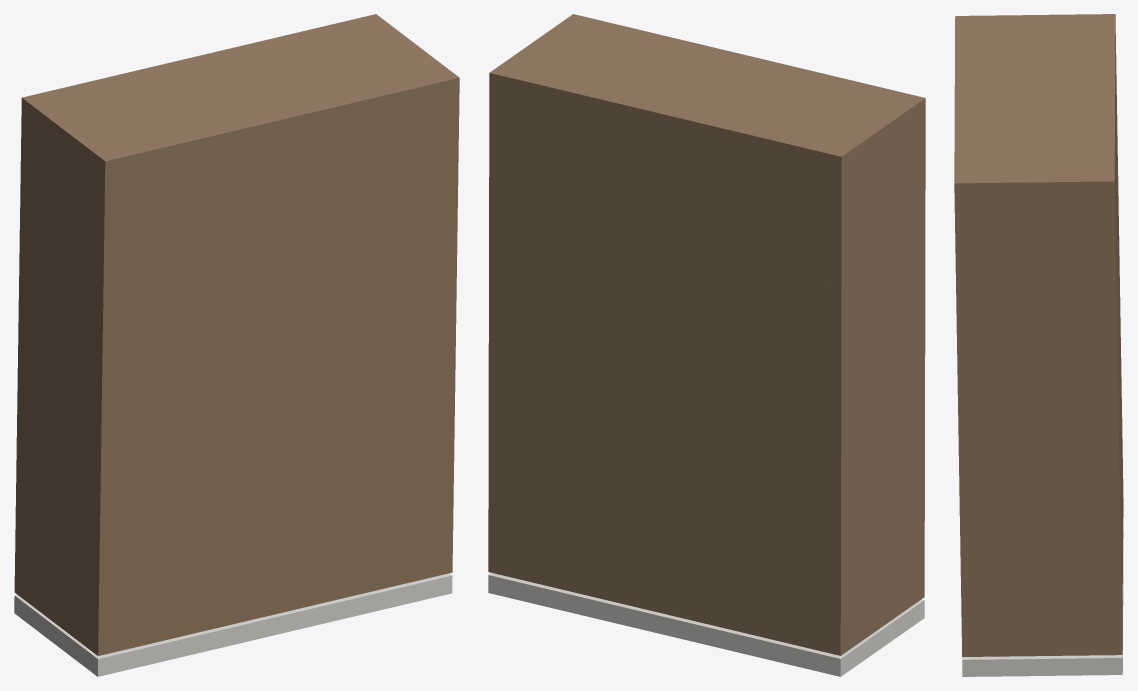
3 views of the same model, side by side, from view 1: azimuth 30°, elevation 25°; view 2: azimuth 150°, elevation 25°; view 3: azimuth 270°, elevation 25° (orthographic). The views are drawn at different scales.
Parts seen in each view (by area): view 1: cabinet_carcass/0, front_front/1; view 2: cabinet_carcass/0, front_front/1; view 3: cabinet_carcass/0, front_front/1.
Boxes of the visible parts, x1=… form: cabinet_carcass/0: x1=14, y1=14, x2=459, y2=655; front_front/1: x1=14, y1=573, x2=452, y2=676; cabinet_carcass/0: x1=488, y1=14, x2=925, y2=655; front_front/1: x1=488, y1=573, x2=924, y2=676; cabinet_carcass/0: x1=954, y1=14, x2=1123, y2=656; front_front/1: x1=962, y1=498, x2=1123, y2=676.
Bounding box in the file's own units: 0.3763 × 0.5606 × 0.1615.
